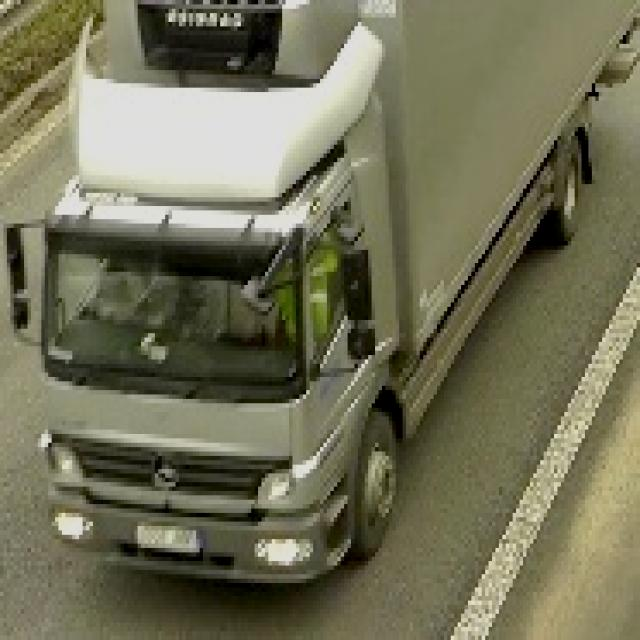truck: (8, 1, 637, 584)
